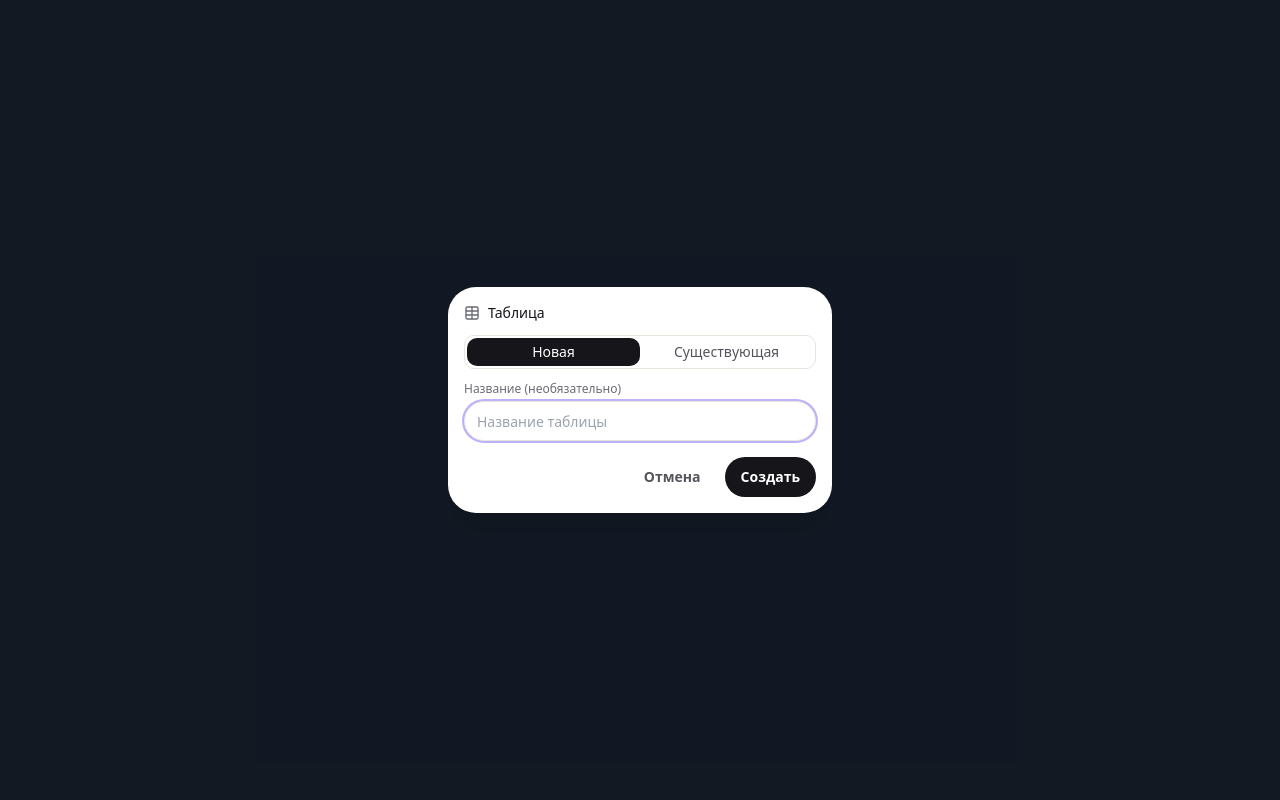
Scenario: InsertTableModal › switches to the existing-tables tab and lists only material_type=table items
This screenshot has width=1280, height=800.
Click the button "Существующая" at (726, 352), box [640,338,813,366]
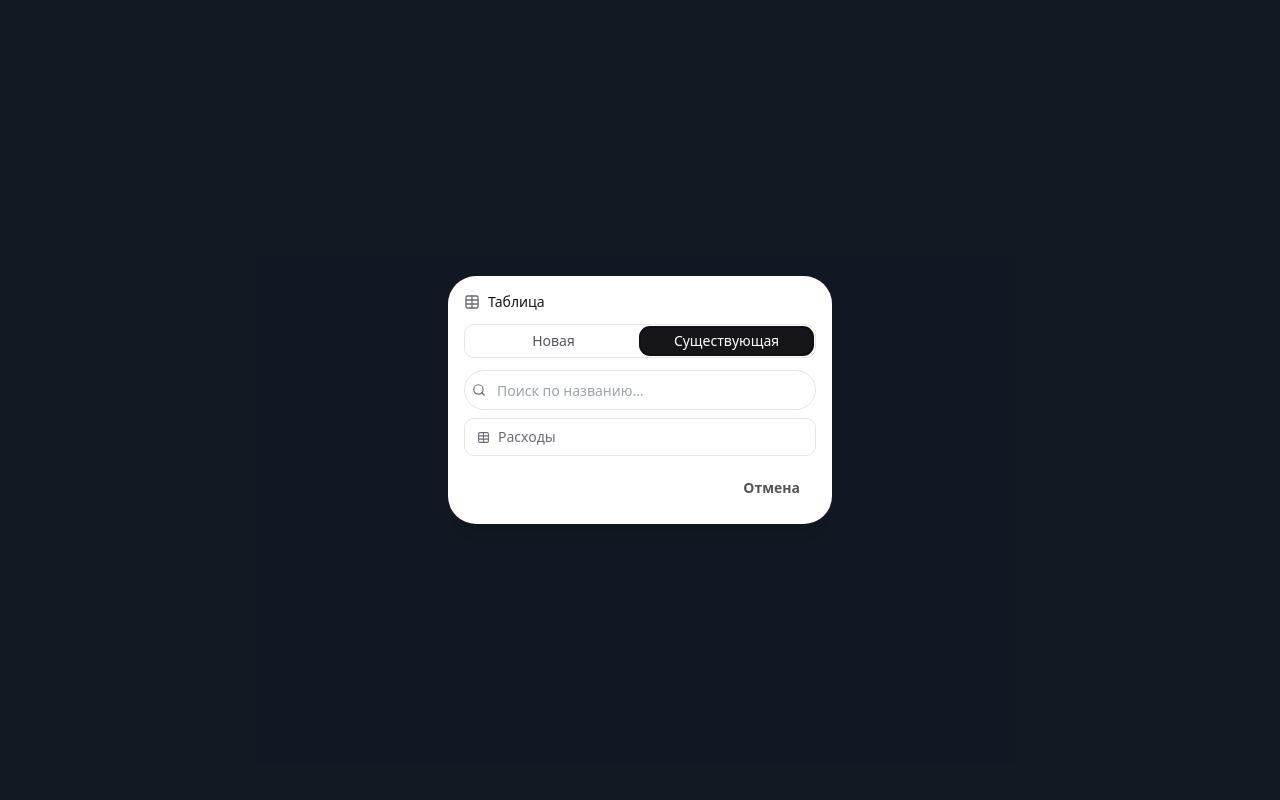
Expected: the text "Расходы" is shown, [498,427,556,447]
